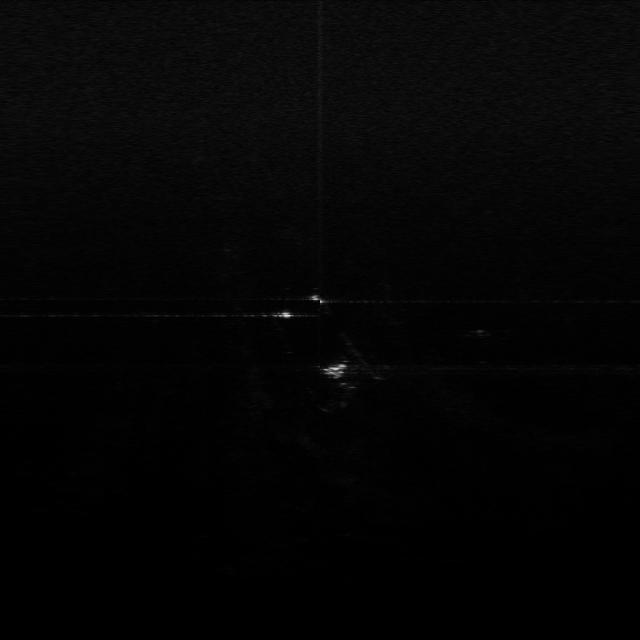rov: (317, 358, 353, 382)
